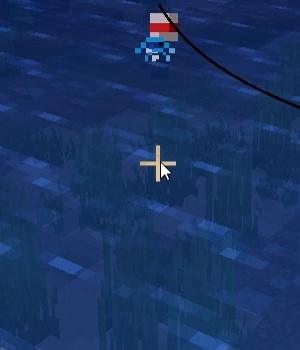up: (142, 11, 182, 80)
